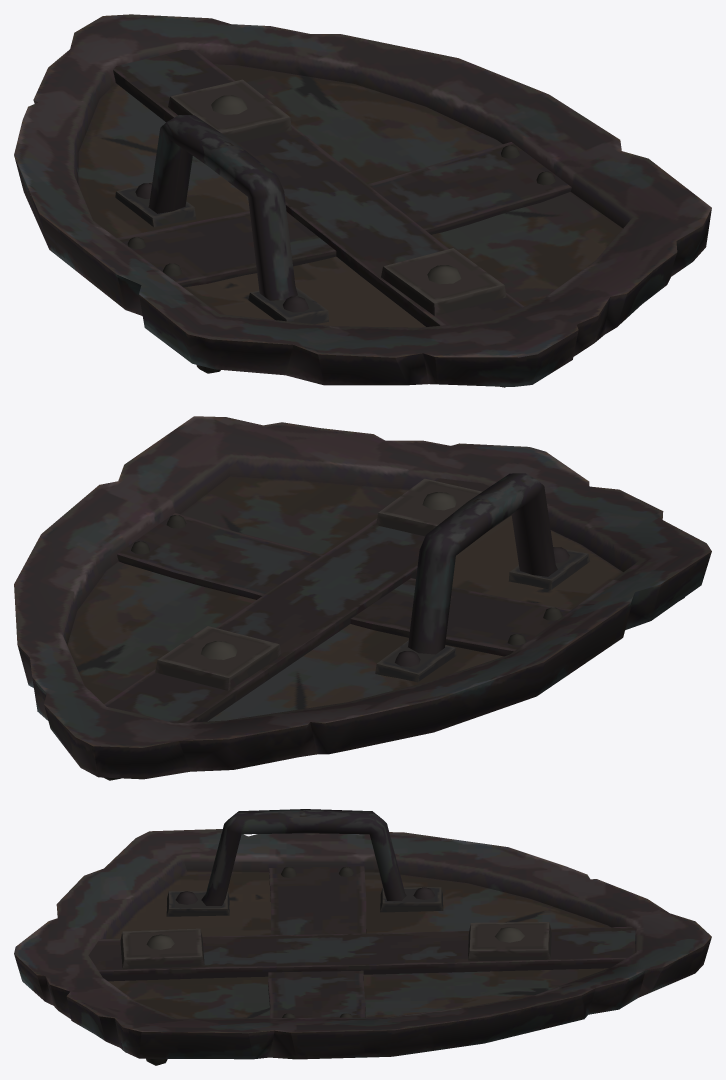
File: Weapon_Shield_021.glb
The picture shows the model from 3 angles, top to bottom: view 1: azimuth 30°, elevation 25°; view 2: azimuth 150°, elevation 25°; view 3: azimuth 270°, elevation 25°; orthographic projection. The views are drawn at different scales.
Parts seen in each view (by area): view 1: Weapon_Shield_021; view 2: Weapon_Shield_021; view 3: Weapon_Shield_021.
Boxes of the visible parts, box(x1,y1,x2,y2) form: Weapon_Shield_021: box(14, 14, 711, 387); Weapon_Shield_021: box(14, 416, 711, 780); Weapon_Shield_021: box(14, 809, 711, 1065).
Size of the model in its own units: 0.5157 by 0.1861 by 0.7427.
1 material, 1 textured.
